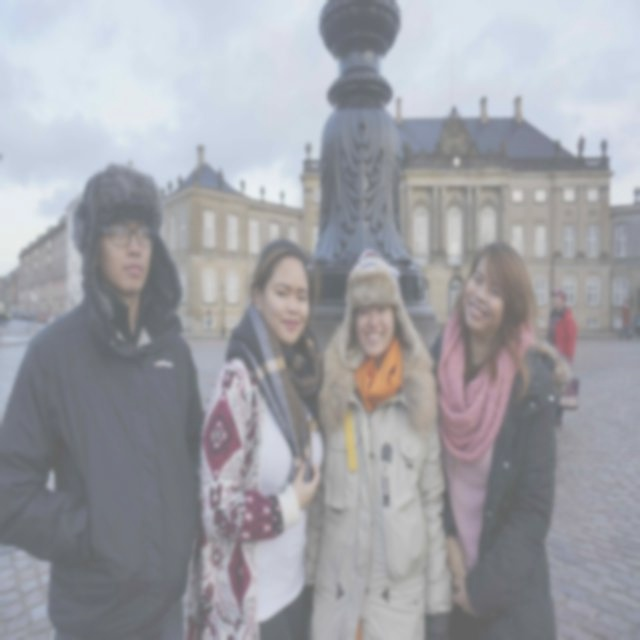pessoa: (0, 158, 209, 639), (419, 237, 575, 639), (300, 243, 456, 640), (183, 230, 330, 640), (546, 288, 578, 428), (576, 134, 588, 156), (0, 308, 12, 328), (634, 309, 640, 342), (206, 306, 212, 334), (634, 312, 640, 338)
